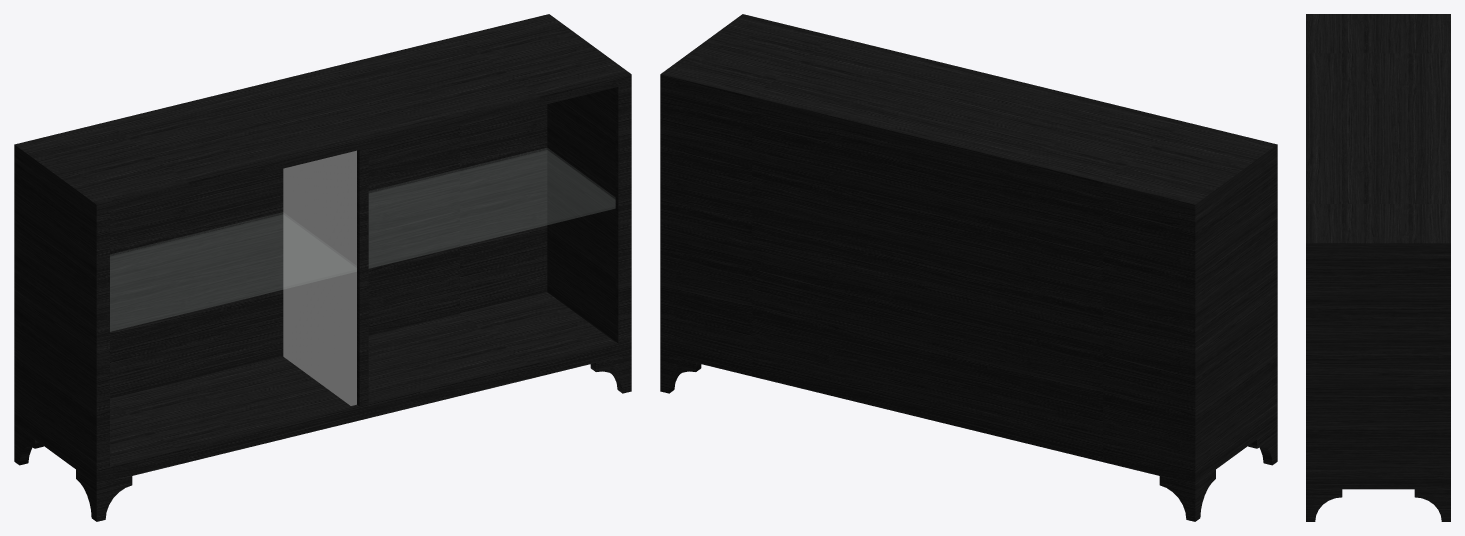
Rendered from Cabinet - Wide Black.obj.
3 views of the same model, side by side, from view 1: azimuth 30°, elevation 25°; view 2: azimuth 150°, elevation 25°; view 3: azimuth 270°, elevation 25° (orthographic). The views are drawn at different scales.
Visible parts, largest first — view 1: Body, Inner_Glass, Seperator; view 2: Body; view 3: Body.
Part boxes in pixels (x1=…): Body: x1=14, y1=14, x2=631, y2=521; Inner_Glass: x1=110, y1=150, x2=614, y2=331; Seperator: x1=283, y1=150, x2=356, y2=405; Body: x1=660, y1=14, x2=1277, y2=521; Body: x1=1306, y1=14, x2=1450, y2=521.
Size of the model in its own units: 1.52 by 0.8636 by 0.4064.
